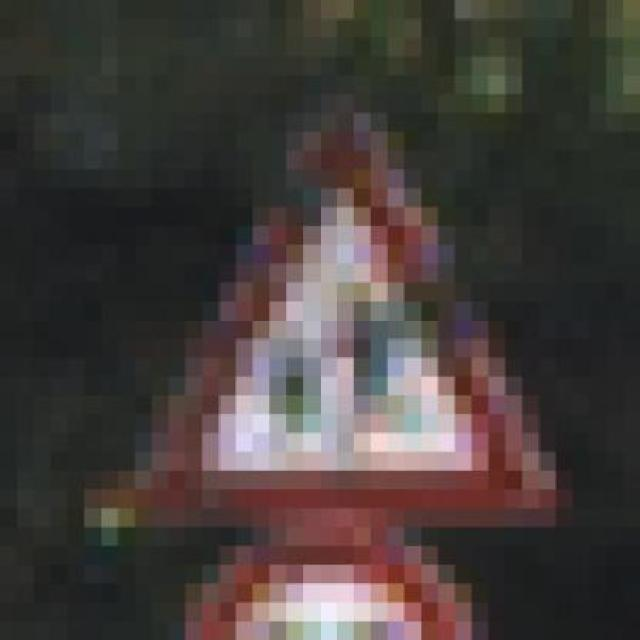Beware of children: (101, 75, 556, 528)
